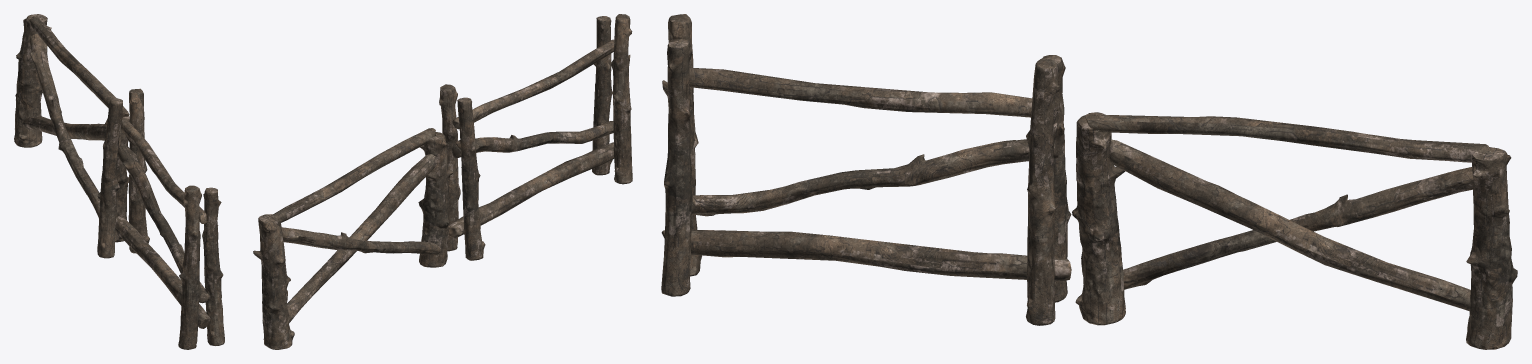
The model's file is SM_Fence_01b_Splines_17.fbx.
3 renders of one model, left to right at view 1: azimuth 30°, elevation 25°; view 2: azimuth 150°, elevation 25°; view 3: azimuth 270°, elevation 25°, orthographic. The views are drawn at different scales.
Parts seen in each view (by area): view 1: SM_Fence_01b_Splines_11_LOD0; view 2: SM_Fence_01b_Splines_11_LOD0; view 3: SM_Fence_01b_Splines_11_LOD0.
Part boxes in pixels (x1=…): SM_Fence_01b_Splines_11_LOD0: x1=14, y1=14, x2=224, y2=349; SM_Fence_01b_Splines_11_LOD0: x1=253, y1=14, x2=632, y2=349; SM_Fence_01b_Splines_11_LOD0: x1=661, y1=14, x2=1517, y2=349.
Size of the model in its own units: 108 by 422 by 140.
